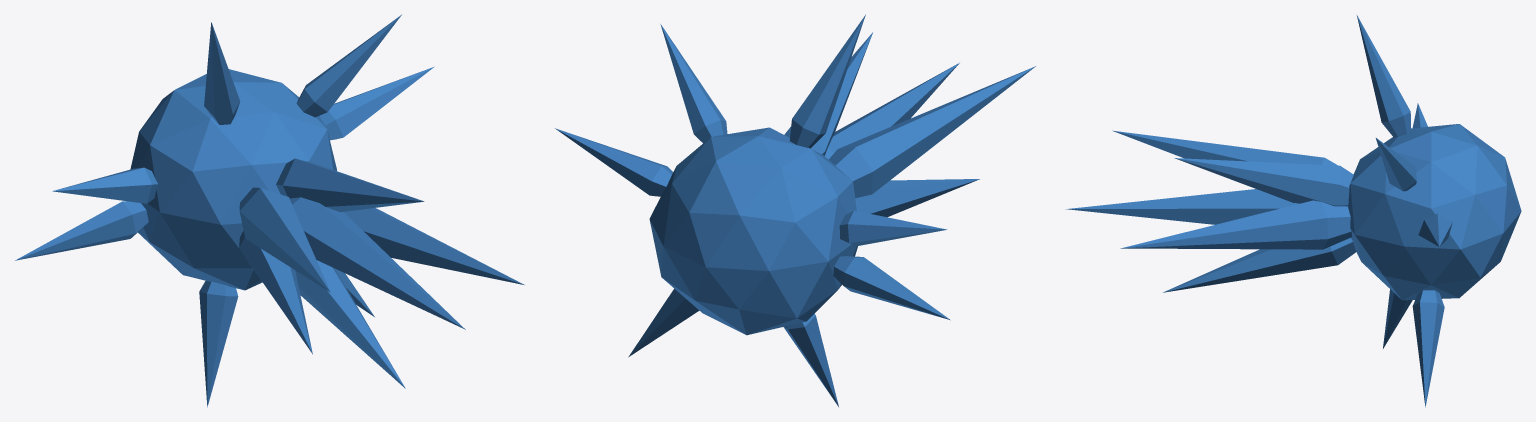
The model's file is QuaCauBang.fbx.
3 renders of one model, left to right at view 1: azimuth 30°, elevation 25°; view 2: azimuth 150°, elevation 25°; view 3: azimuth 270°, elevation 25°, orthographic. The views are drawn at different scales.
Parts seen in each view (by area): view 1: QuaCauBang; view 2: QuaCauBang; view 3: QuaCauBang.
Part boxes in pixels (x1=…): QuaCauBang: x1=15, y1=14, x2=524, y2=407; QuaCauBang: x1=555, y1=14, x2=1035, y2=406; QuaCauBang: x1=1065, y1=15, x2=1521, y2=407.
Bounding box in the file's own units: 2.17 × 1.99 × 2.49.
